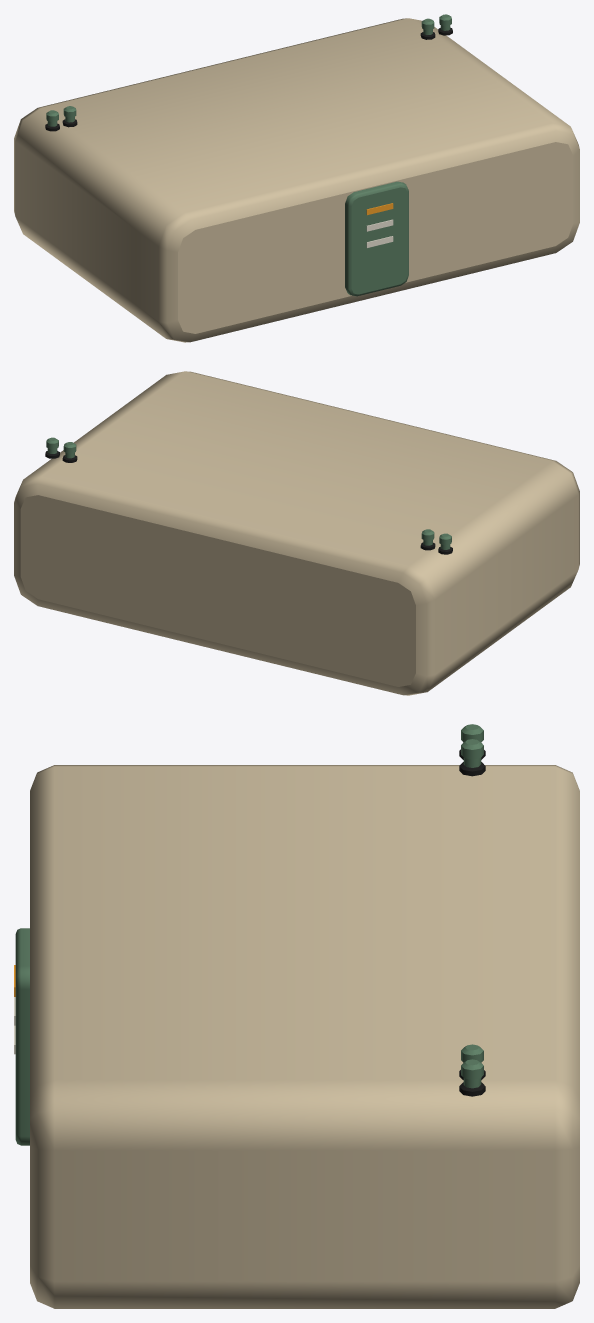
File: t60_cabinet.obj
3 views of the same model, one above another, from view 1: azimuth 30°, elevation 25°; view 2: azimuth 150°, elevation 25°; view 3: azimuth 270°, elevation 25° (orthographic). The views are drawn at different scales.
Parts seen in each view (by area): view 1: t60_cabinet; view 2: t60_cabinet; view 3: t60_cabinet.
Part boxes in pixels (left/top/right/bottom): t60_cabinet: left=14, top=14, right=579, bottom=342; t60_cabinet: left=14, top=371, right=579, bottom=695; t60_cabinet: left=14, top=724, right=579, bottom=1308.
Bounding box in the file's own units: 4.81 × 1.6 × 3.21.
